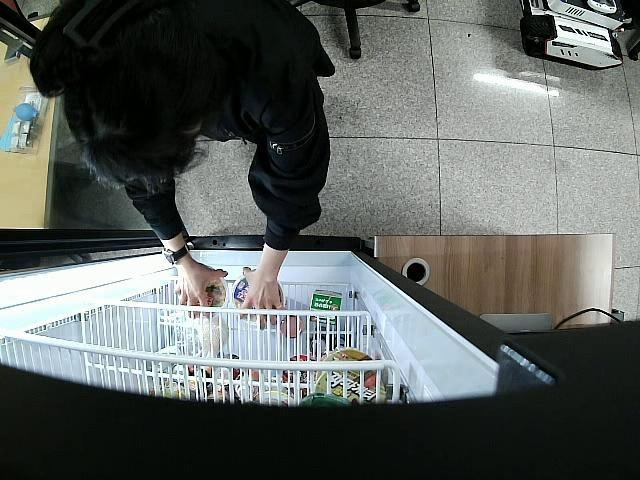09_yukGaeJang: (230, 278, 283, 325), (191, 278, 228, 319)
